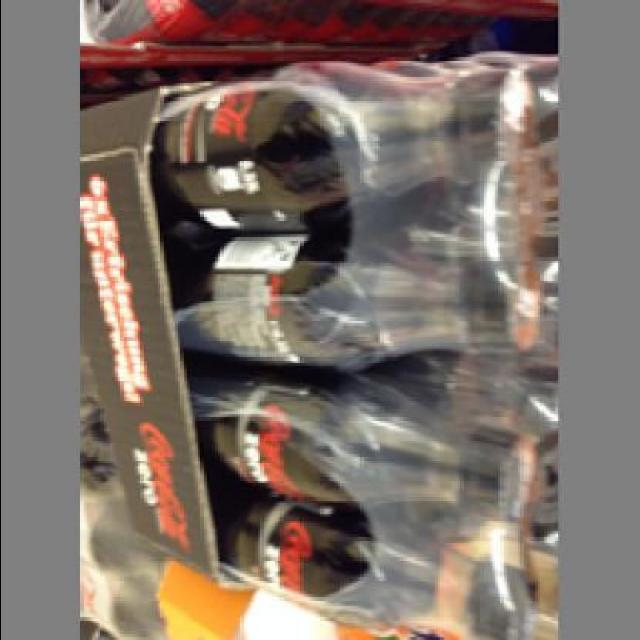Coke: (153, 55, 536, 231), (169, 230, 546, 372), (191, 369, 540, 505), (220, 500, 540, 637)
